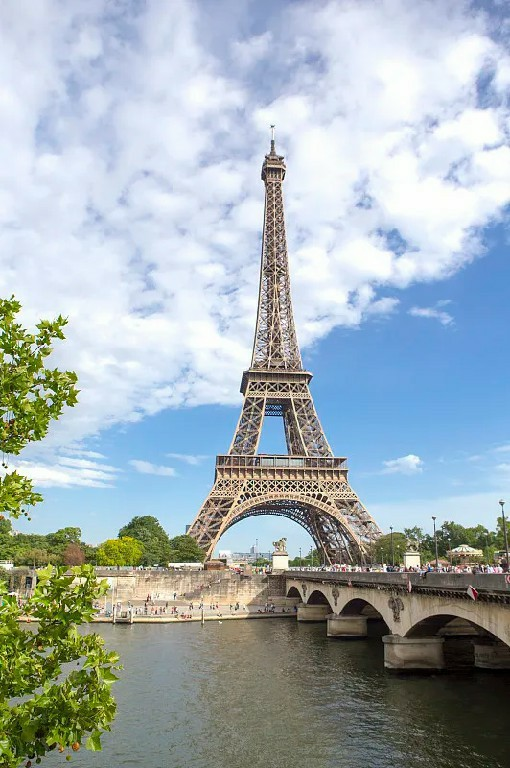Eiffel: (185, 125, 385, 568)
